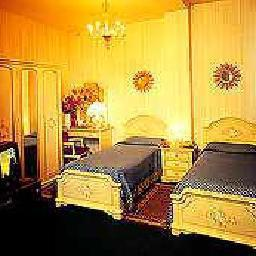Cama: (57, 140, 161, 212), (177, 139, 254, 233)
